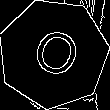O_S: (24, 22, 83, 85)
